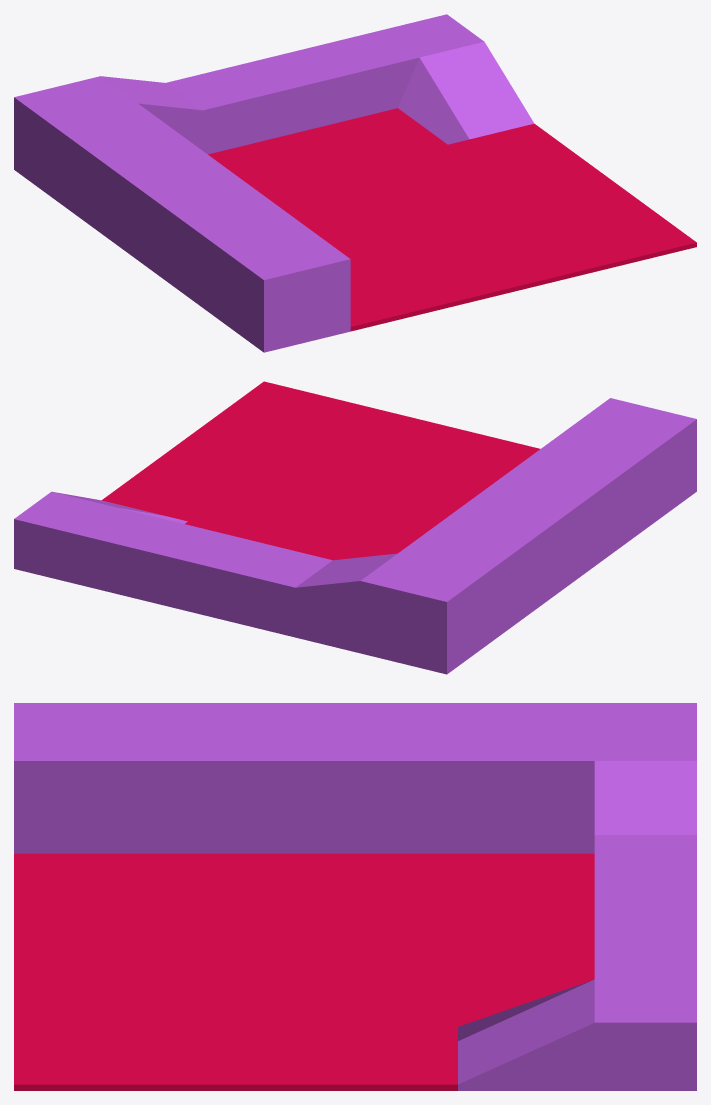
The model's file is nivel5.fbx.
3 views of the same model, one above another, from view 1: azimuth 30°, elevation 25°; view 2: azimuth 150°, elevation 25°; view 3: azimuth 270°, elevation 25° (orthographic). The views are drawn at different scales.
Parts seen in each view (by area): view 1: Cube; view 2: Cube; view 3: Cube.
Part boxes in pixels (<box>): Cube: <box>14,14,696,352</box>; Cube: <box>14,381,696,674</box>; Cube: <box>14,703,696,1090</box>.
Size of the model in its own units: 2000 by 2000 by 320.
